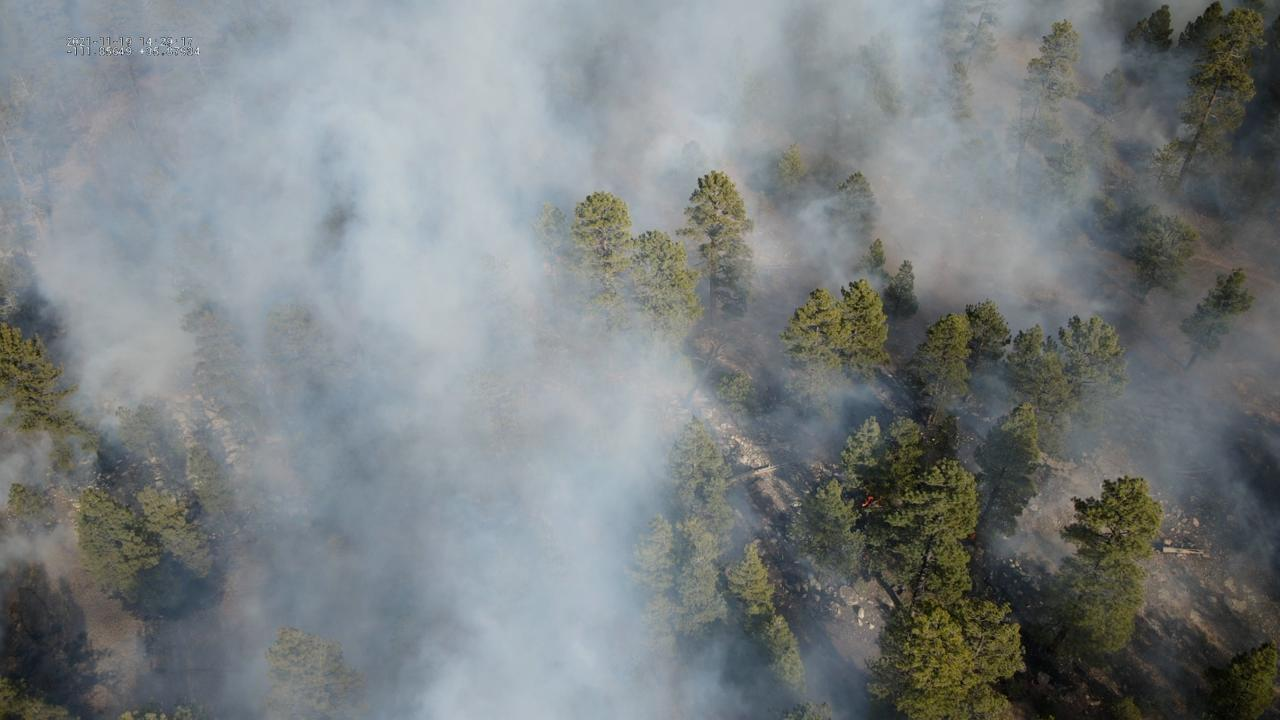fire: (859, 495, 874, 510), (968, 530, 978, 543)
smoke: (0, 0, 1280, 720)
